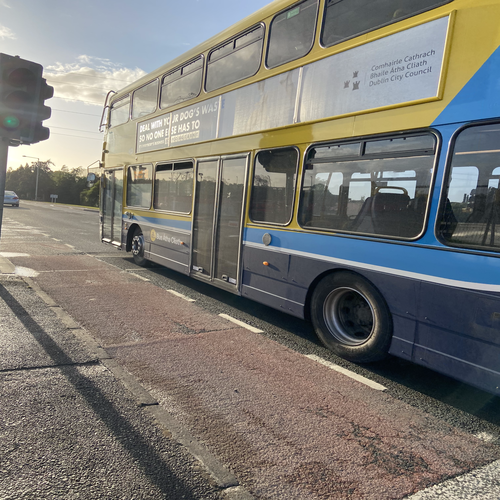Bus: (89, 1, 500, 397)
